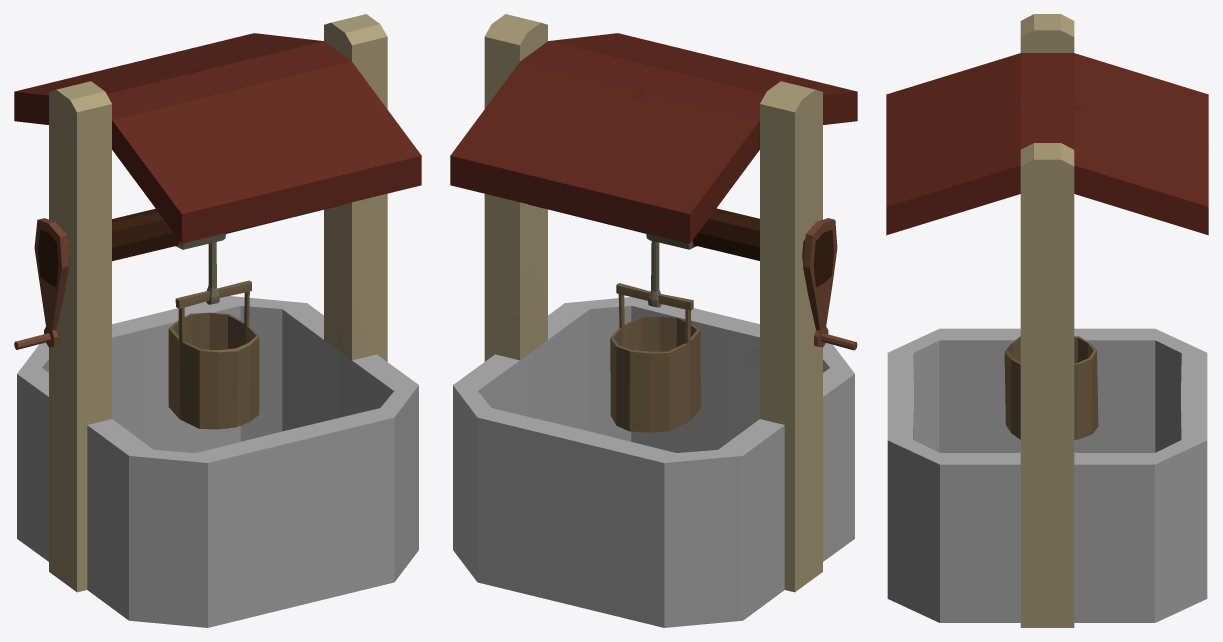
File: poço.fbx
3 views of the same model, side by side, from view 1: azimuth 30°, elevation 25°; view 2: azimuth 150°, elevation 25°; view 3: azimuth 270°, elevation 25° (orthographic). The views are drawn at different scales.
Parts seen in each view (by area): view 1: Cube; view 2: Cube; view 3: Cube.
Boxes of the visible parts, x1=… form: Cube: x1=14, y1=14, x2=421, y2=627; Cube: x1=450, y1=14, x2=857, y2=627; Cube: x1=886, y1=14, x2=1208, y2=627.
Size of the model in its own units: 1452 by 1894 by 1180.
1 material, 1 textured.
